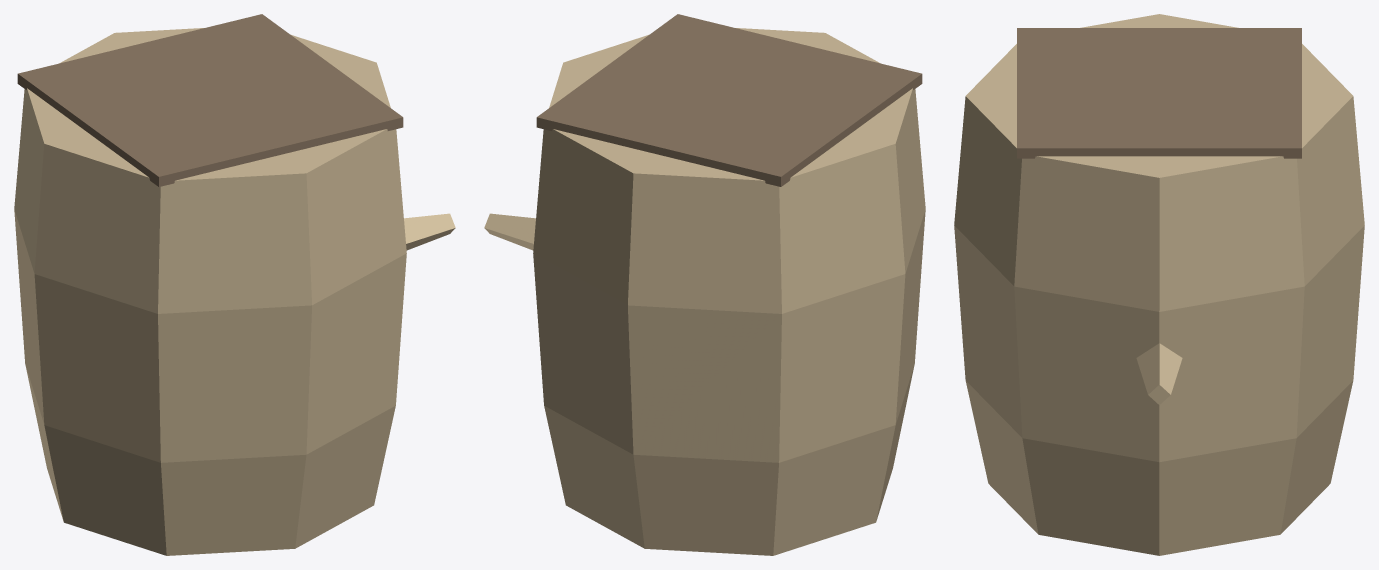
The model's file is prop-ink-horn-blank.fbx.
3 views of the same model, side by side, from view 1: azimuth 30°, elevation 25°; view 2: azimuth 150°, elevation 25°; view 3: azimuth 270°, elevation 25° (orthographic).
Visible parts, largest first — view 1: prop-ink-horn-blank; view 2: prop-ink-horn-blank; view 3: prop-ink-horn-blank.
Part boxes in pixels (<box>): prop-ink-horn-blank: <box>14,14,455,555</box>; prop-ink-horn-blank: <box>484,14,925,555</box>; prop-ink-horn-blank: <box>954,14,1364,555</box>.
Bounding box in the file's own units: 8.5 × 7.65 × 7.2.
